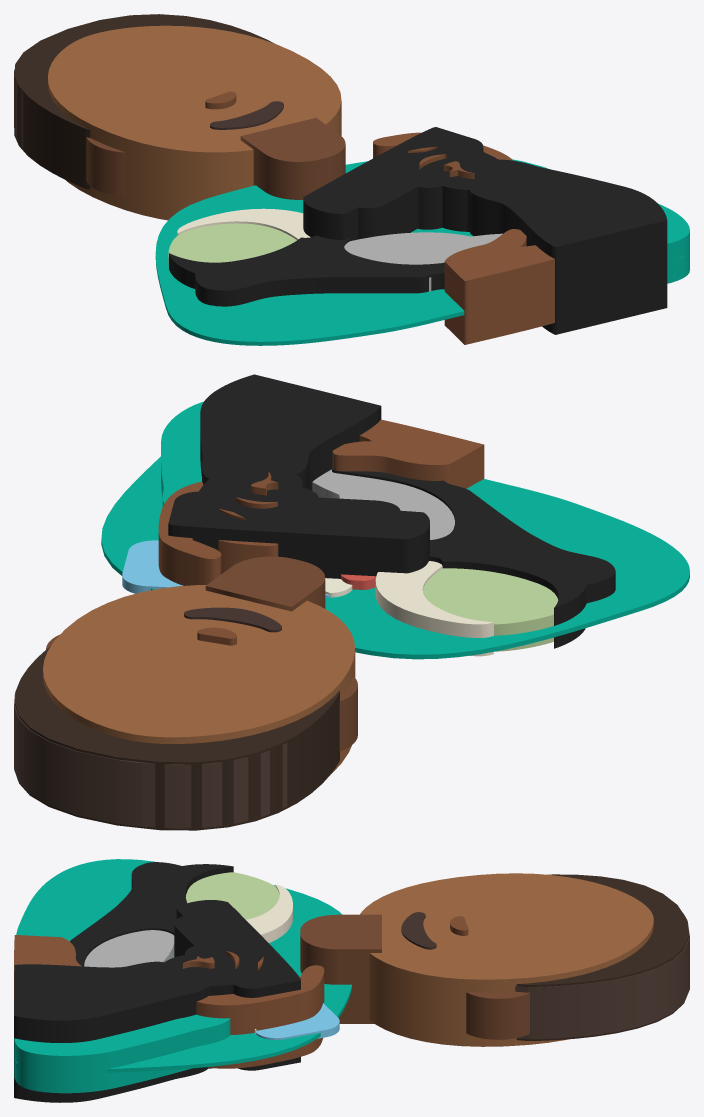
File: emoji_u1f468_1f3fe_200d_1f37c.glb
3 renders of one model, top to bottom at view 1: azimuth 30°, elevation 25°; view 2: azimuth 150°, elevation 25°; view 3: azimuth 270°, elevation 25°, orthographic. The views are drawn at different scales.
Visible parts, largest first — view 1: emoji_u1f468_1f3fe_200d_1f37c; view 2: emoji_u1f468_1f3fe_200d_1f37c; view 3: emoji_u1f468_1f3fe_200d_1f37c.
Boxes of the visible parts, x1,y1,x2,y2 form: emoji_u1f468_1f3fe_200d_1f37c: (14, 14, 689, 345); emoji_u1f468_1f3fe_200d_1f37c: (14, 374, 689, 830); emoji_u1f468_1f3fe_200d_1f37c: (14, 859, 689, 1102).
Size of the model in its own units: 0.0246 by 0.005 by 0.0328.
